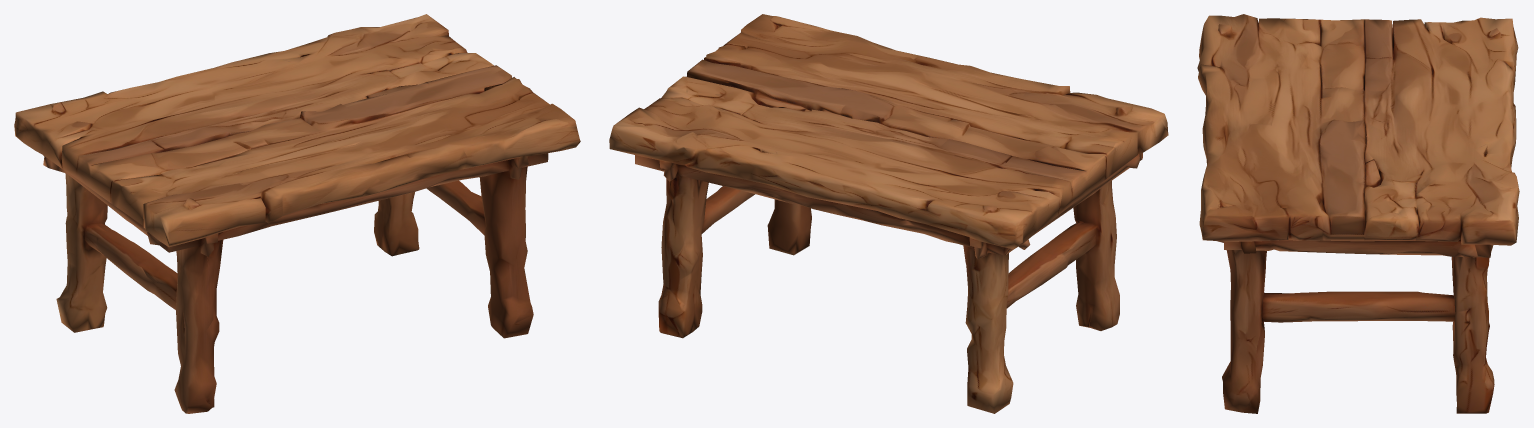
File: table.glb
3 renders of one model, left to right at view 1: azimuth 30°, elevation 25°; view 2: azimuth 150°, elevation 25°; view 3: azimuth 270°, elevation 25°, orthographic. The views are drawn at different scales.
Parts seen in each view (by area): view 1: tripo_node_0351e6d7-121f-46ec-acd8-a6d5d96feee7; view 2: tripo_node_0351e6d7-121f-46ec-acd8-a6d5d96feee7; view 3: tripo_node_0351e6d7-121f-46ec-acd8-a6d5d96feee7.
Boxes of the visible parts, bbox=[...] form: tripo_node_0351e6d7-121f-46ec-acd8-a6d5d96feee7: bbox=[14, 14, 580, 413]; tripo_node_0351e6d7-121f-46ec-acd8-a6d5d96feee7: bbox=[609, 14, 1168, 413]; tripo_node_0351e6d7-121f-46ec-acd8-a6d5d96feee7: bbox=[1197, 14, 1519, 413].
Size of the model in its own units: 1 by 0.5023 by 0.6665.
Materials: 1 (1 with a texture image).
